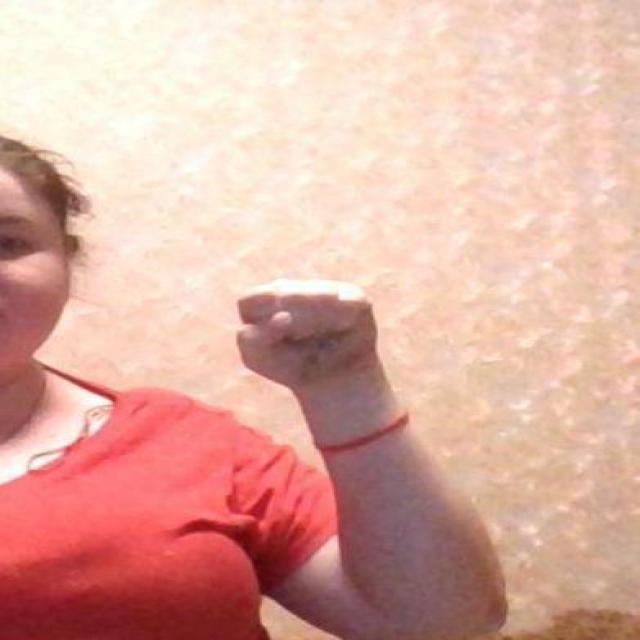hand: (232, 276, 410, 450)
